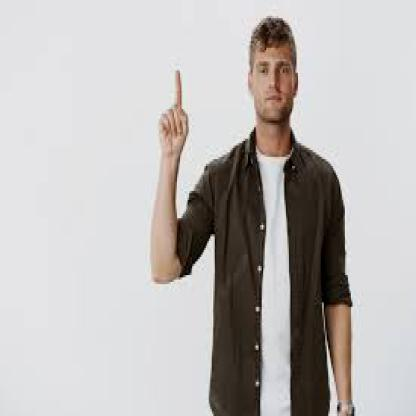Up: (152, 62, 191, 152)
